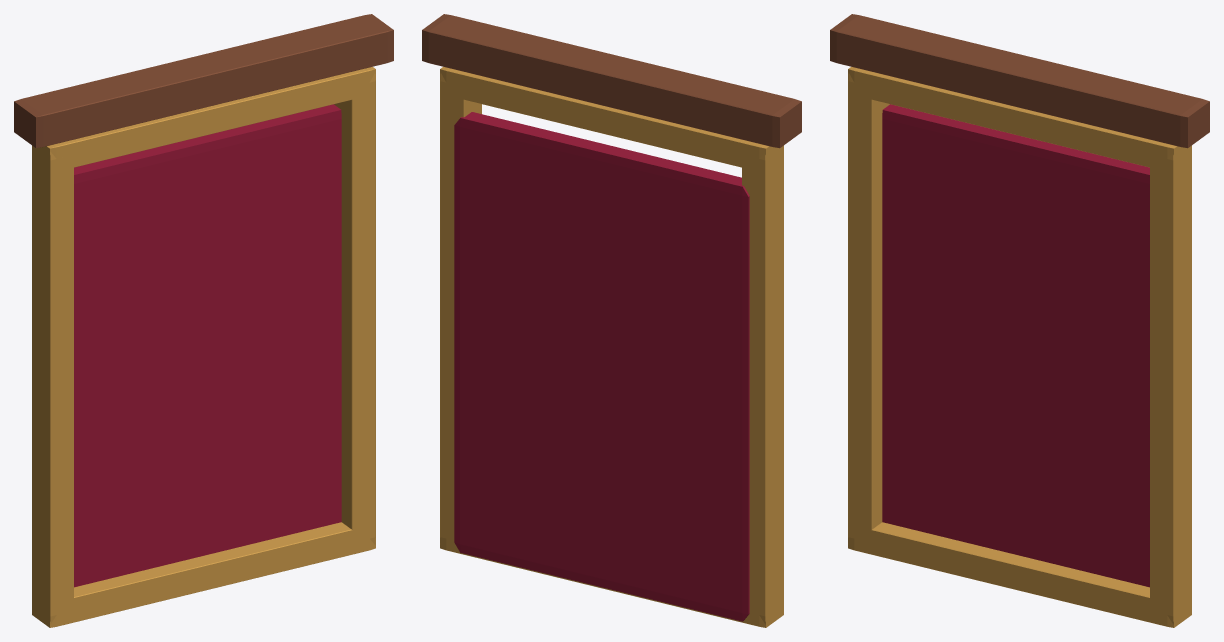
The model's file is poster_frame.glb.
The picture shows the model from 3 angles, left to right: view 1: azimuth 30°, elevation 25°; view 2: azimuth 150°, elevation 25°; view 3: azimuth 330°, elevation 25°; orthographic projection.
Parts seen in each view (by area): view 1: poster_back, poster_crown, poster_left, poster_right, poster_bottom, poster_top; view 2: poster_back, poster_crown, poster_left, poster_top, poster_right, poster_bottom; view 3: poster_back, poster_crown, poster_right, poster_left, poster_bottom, poster_top.
Boxes of the visible parts, x1,y1,x2,y2 form: poster_back: [74, 104, 341, 587]; poster_crown: [14, 14, 393, 148]; poster_left: [32, 147, 73, 624]; poster_right: [334, 73, 375, 544]; poster_bottom: [32, 522, 375, 627]; poster_top: [32, 67, 375, 172]; poster_back: [454, 112, 749, 621]; poster_crown: [422, 14, 801, 148]; poster_left: [742, 147, 783, 624]; poster_top: [440, 67, 783, 172]; poster_right: [440, 73, 481, 544]; poster_bottom: [440, 526, 783, 627]; poster_back: [882, 104, 1149, 587]; poster_crown: [830, 14, 1209, 148]; poster_right: [1150, 147, 1191, 624]; poster_left: [848, 73, 889, 544]; poster_bottom: [848, 522, 1191, 627]; poster_top: [848, 67, 1191, 172].
Size of the model in its own units: 2.8 by 3.87 by 0.31.
